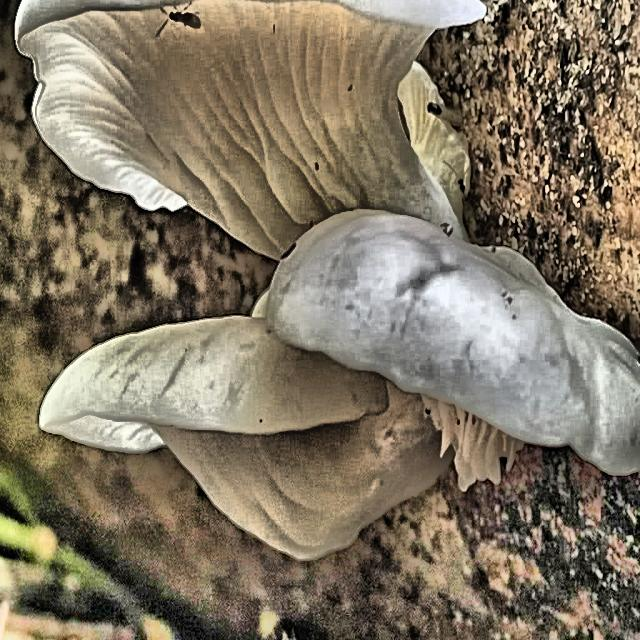Healthy: (0, 0, 619, 543)
